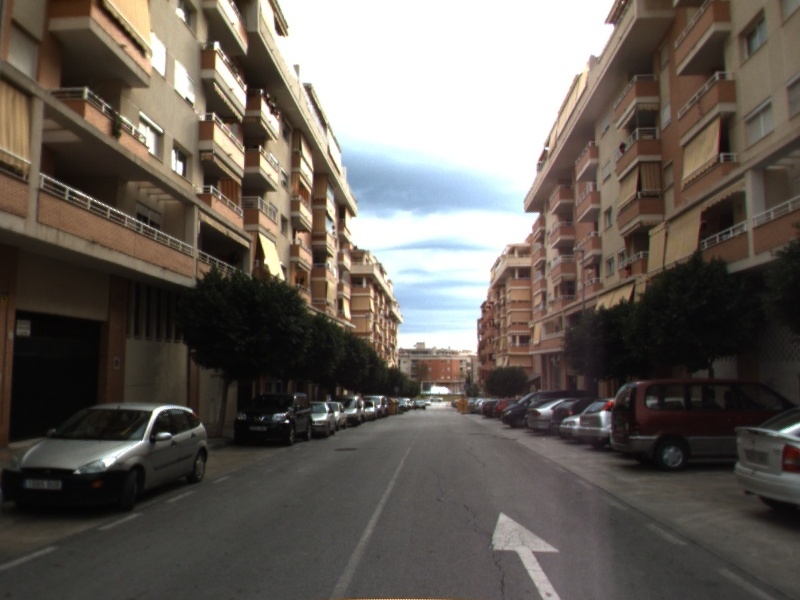STRAIGHT: (485, 509, 566, 600)
